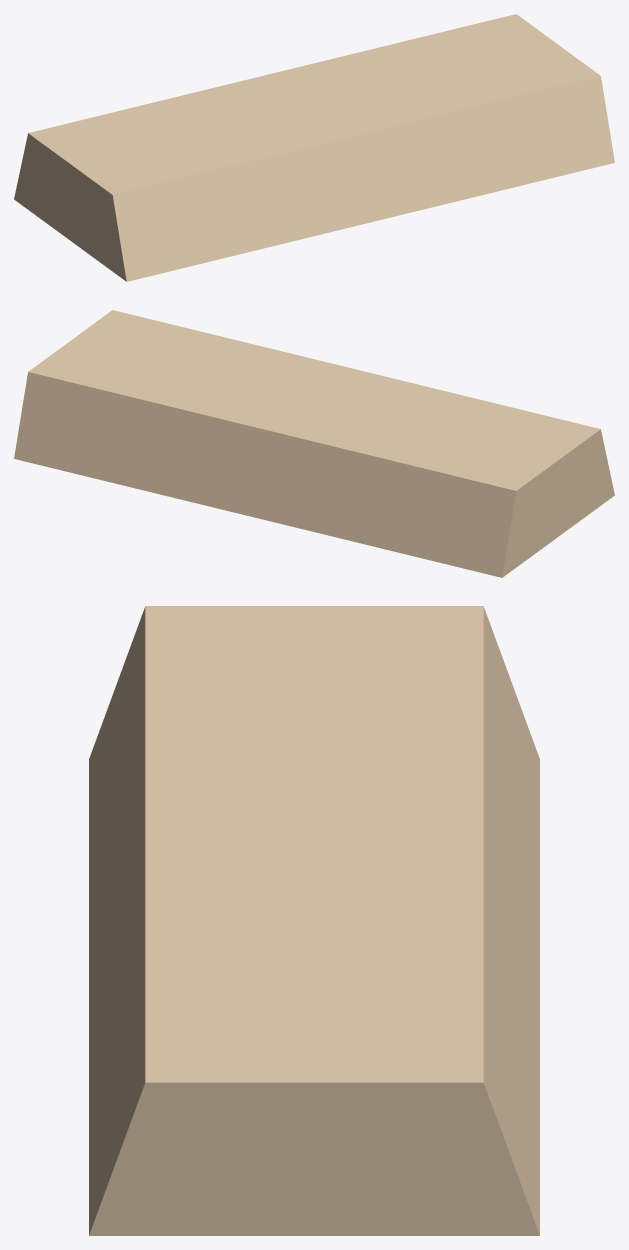
Rendered from Wall_Straight_Base.glb.
3 renders of one model, top to bottom at view 1: azimuth 30°, elevation 25°; view 2: azimuth 150°, elevation 25°; view 3: azimuth 270°, elevation 25°, orthographic. The views are drawn at different scales.
Visible parts, largest first — view 1: Wall_Straight_Base; view 2: Wall_Straight_Base; view 3: Wall_Straight_Base.
Boxes of the visible parts, x1,y1,x2,y2 form: Wall_Straight_Base: [14, 14, 614, 281]; Wall_Straight_Base: [14, 310, 614, 577]; Wall_Straight_Base: [89, 606, 539, 1235].
Bounding box in the file's own units: 0.45 × 0.0675 × 0.18.
